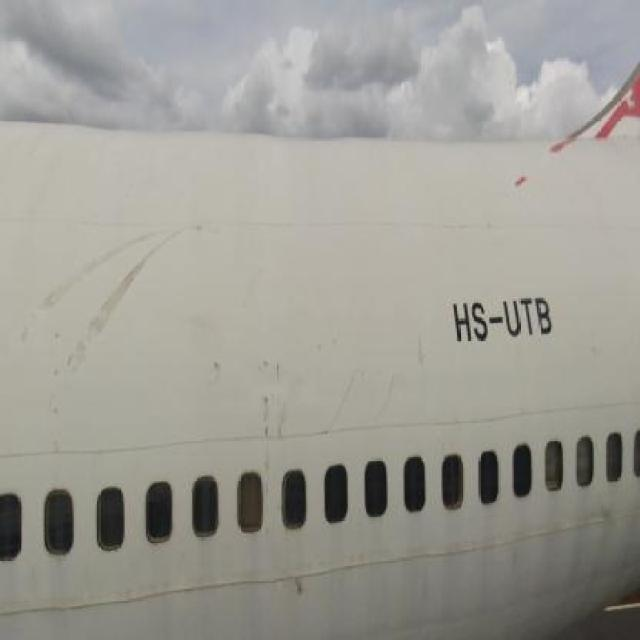Scartch: (252, 342, 288, 468), (44, 335, 74, 480), (288, 562, 326, 612)
